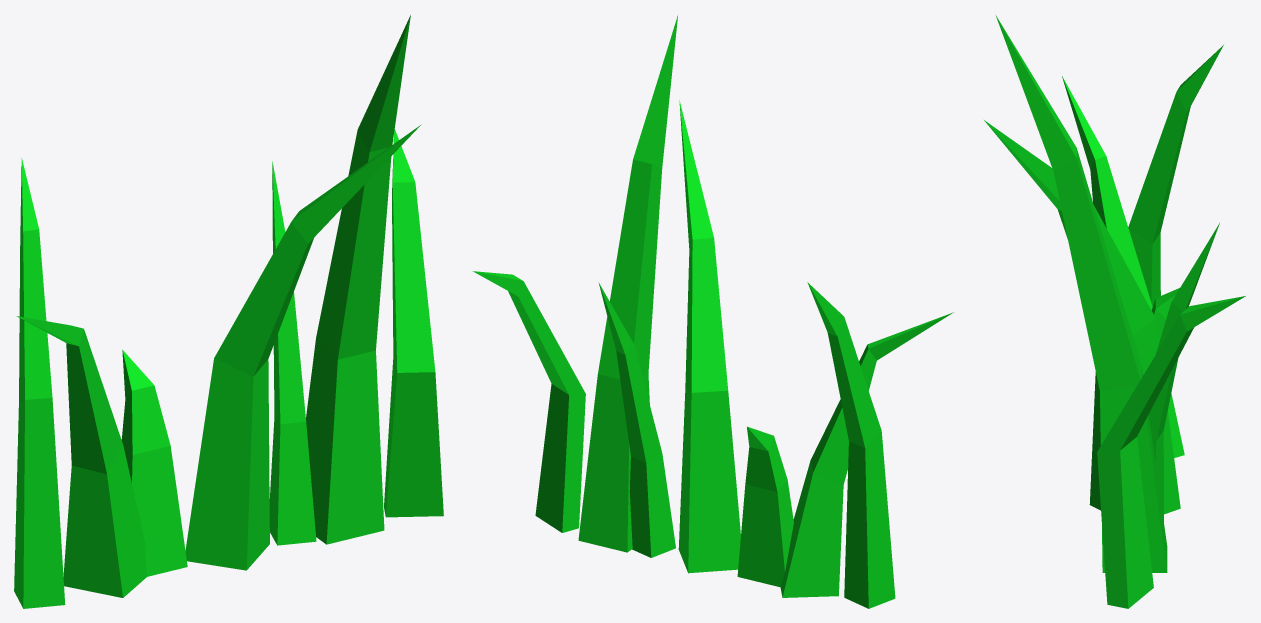
Rendered from hierva.fbx.
3 renders of one model, left to right at view 1: azimuth 30°, elevation 25°; view 2: azimuth 150°, elevation 25°; view 3: azimuth 270°, elevation 25°, orthographic. The views are drawn at different scales.
Visible parts, largest first — view 1: grass; view 2: grass; view 3: grass.
Part boxes in pixels (bbox=[...]): grass: bbox=[14, 15, 443, 608]; grass: bbox=[472, 15, 953, 608]; grass: bbox=[984, 15, 1245, 608].
Bounding box in the file's own units: 173 × 197 × 86.
